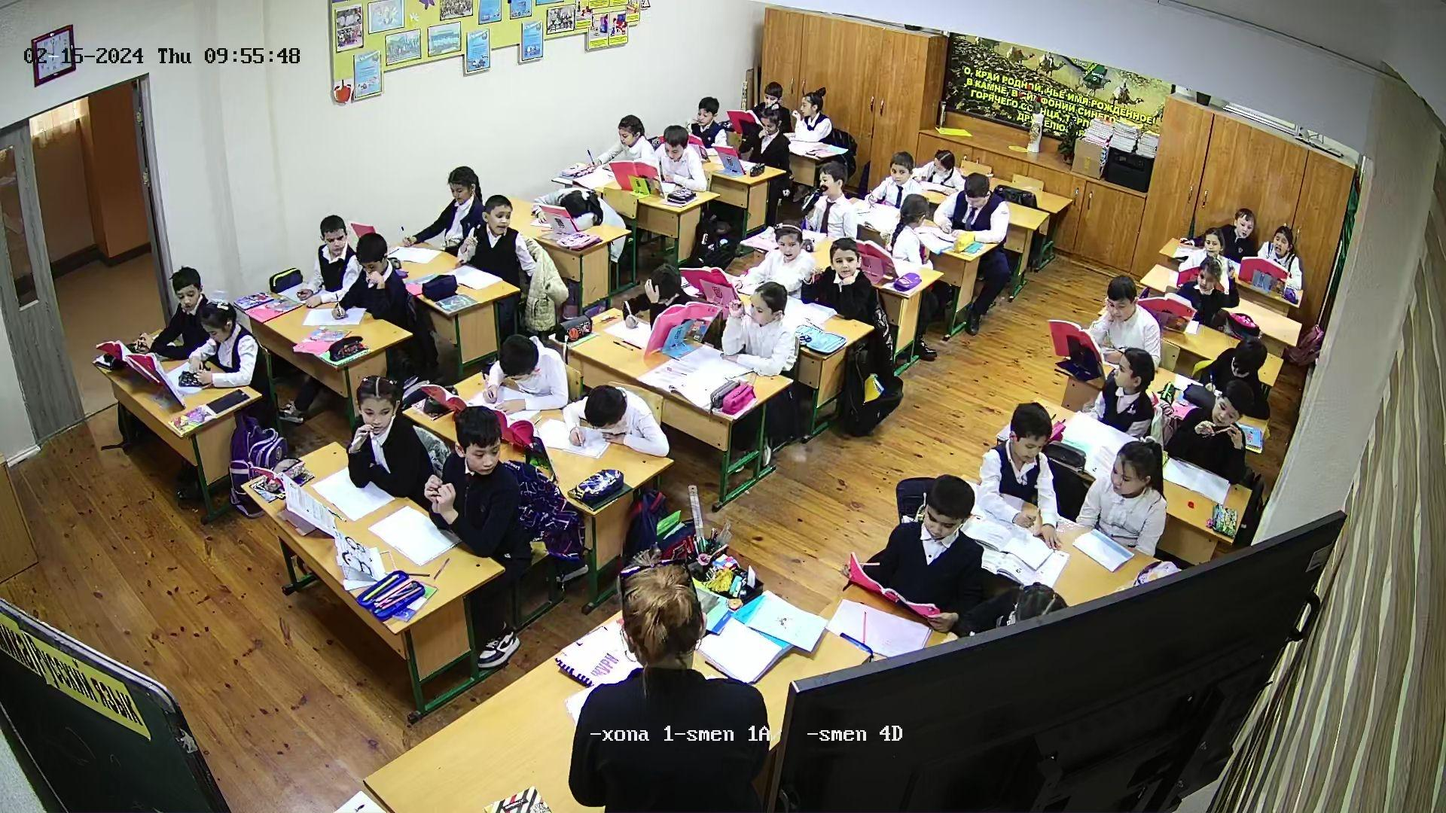Hand Under Table: (1137, 496, 1169, 551)
Look Around: (1108, 349, 1157, 415), (889, 194, 931, 264), (473, 195, 519, 252)
Normal: (480, 331, 561, 416), (563, 386, 656, 455)
Stand Up: (577, 556, 770, 813)
